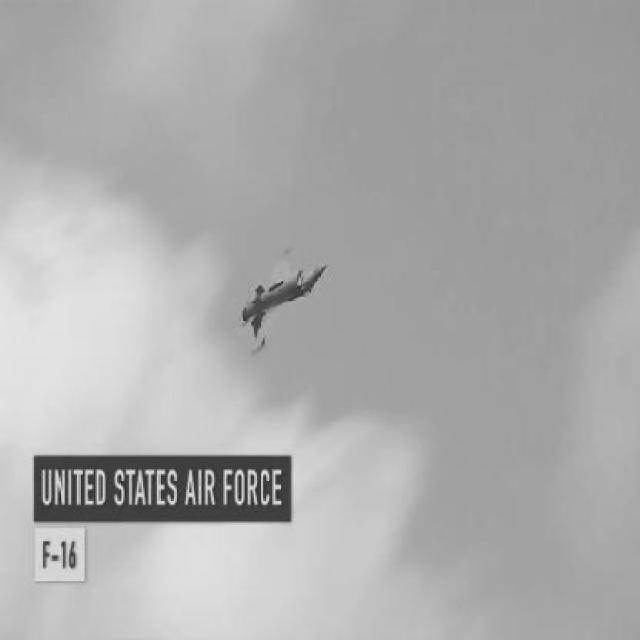Airplane: (240, 243, 329, 362)
